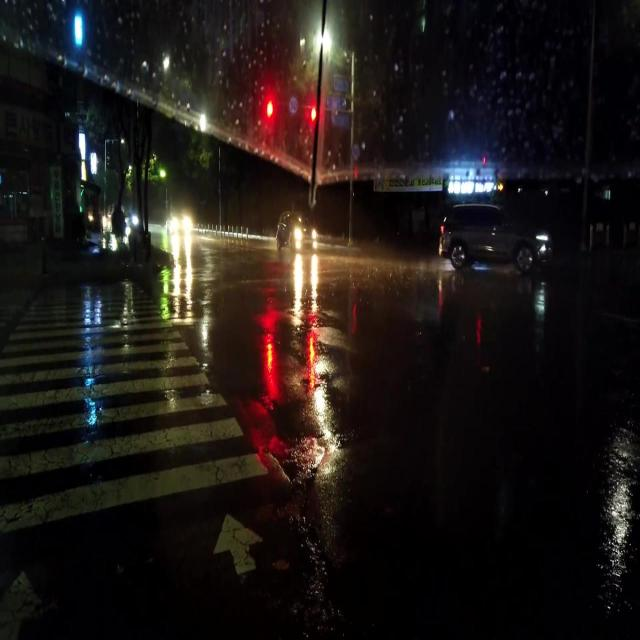Car: (434, 200, 553, 276), (273, 209, 317, 251)
